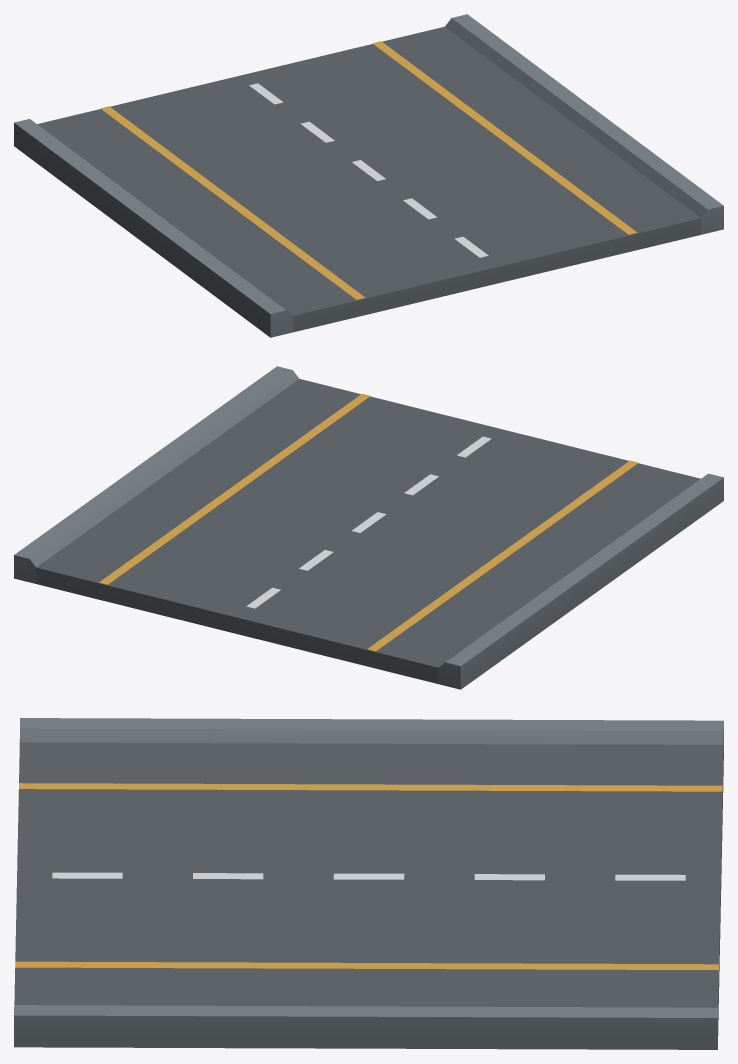
Rendered from road16_lev3.glb.
The picture shows the model from 3 angles, top to bottom: view 1: azimuth 30°, elevation 25°; view 2: azimuth 150°, elevation 25°; view 3: azimuth 270°, elevation 25°; orthographic projection. The views are drawn at different scales.
Visible parts, largest first — view 1: road_straight.024; view 2: road_straight.024; view 3: road_straight.024.
Part boxes in pixels (x1,y1,x2,y2): road_straight.024: (14,14,723,337); road_straight.024: (14,366,723,689); road_straight.024: (14,718,723,1049).
Bounding box in the file's own units: 18.78 × 0.9312 × 18.78.
Materials: 1 (1 with a texture image).
